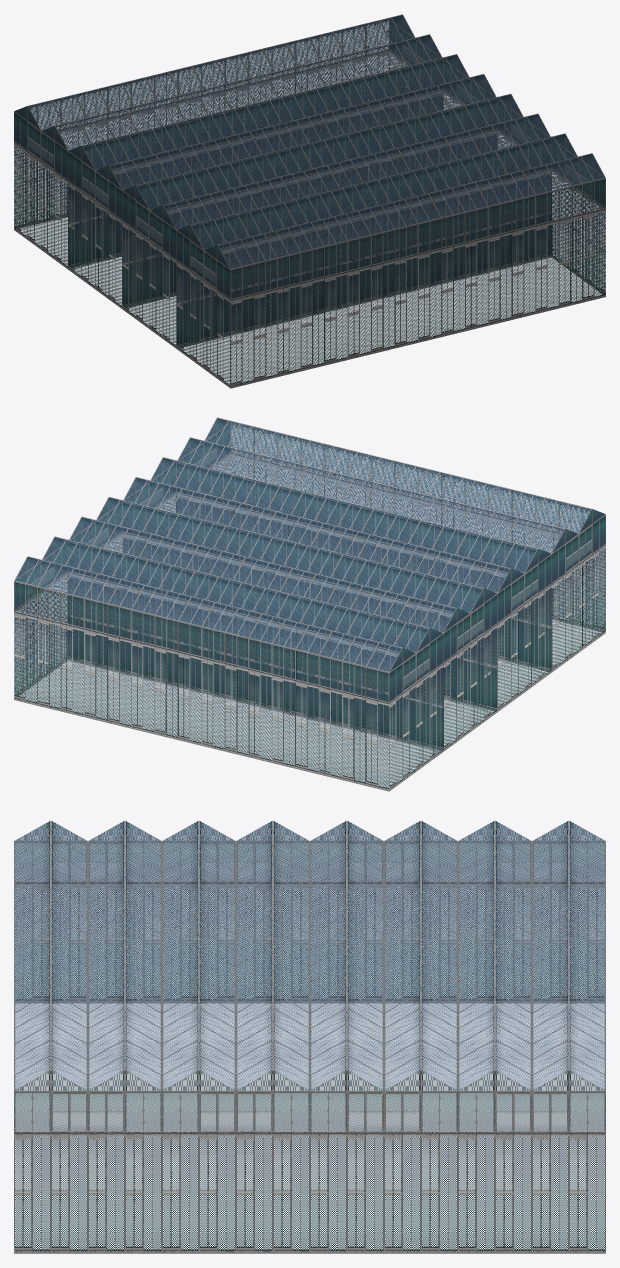
Rendered from kas_mod2_3a.fbx.
3 renders of one model, top to bottom at view 1: azimuth 30°, elevation 25°; view 2: azimuth 150°, elevation 25°; view 3: azimuth 270°, elevation 25°, orthographic. The views are drawn at different scales.
Visible parts, largest first — view 1: kas_mod2_3a; view 2: kas_mod2_3a; view 3: kas_mod2_3a.
Boxes of the visible parts, x1,y1,x2,y2 form: kas_mod2_3a: [14, 14, 605, 388]; kas_mod2_3a: [14, 417, 605, 791]; kas_mod2_3a: [14, 820, 605, 1253].
Bounding box in the file's own units: 4000 × 1364 × 4000.
